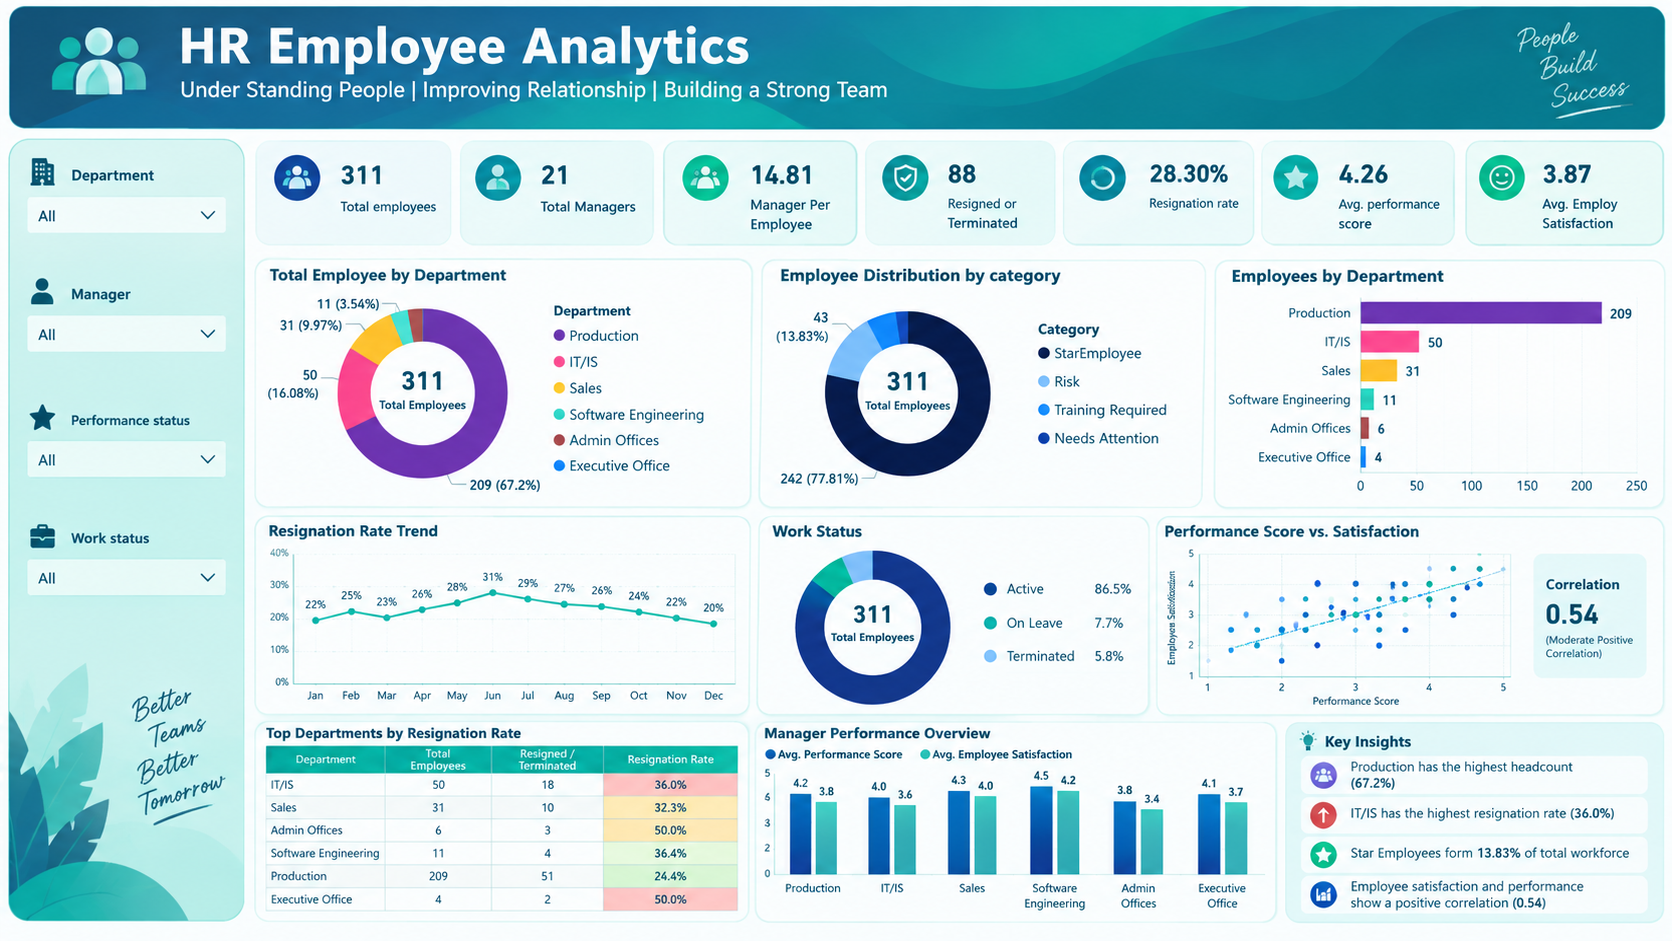

This screenshot's page, from the dashboard's own definition file:
{"tool":"powerbi","page":{"name":"  HR Employee Analytics ","canvas":[1280,720],"ordinal":0},"visuals":[{"type":"shape","box":[210,125,1058.3,90],"z":0},{"type":"shape","box":[0,0,1280,112],"z":1000},{"type":"textbox","box":[0,0,1280.3,78.3],"z":2000},{"type":"textbox","box":[0,67.3,1092,45.2],"z":3000},{"type":"shape","box":[0,123.8,200,583.8],"z":4000},{"type":"slicer","fields":{"Values":["hr_project departmentstatus.Department"]},"box":[13.8,138.8,172.5,93.8],"z":5000},{"type":"slicer","fields":{"Values":["hr_project category.Category"]},"box":[13.8,373.8,171.2,93.8],"z":6000},{"type":"slicer","fields":{"Values":["hr_project category.EmploymentStatus"]},"box":[15,493.8,172.5,93.8],"z":7000},{"type":"slicer","fields":{"Values":["hr_project mangerstatuswithoutdept.ManagerName"]},"box":[16.2,250,171.2,95],"z":8000},{"type":"clusteredBarChart","title":"Employ  Distribution  by category ","fields":{"Category":["hr_project category.Category","hr_project category.Department"],"Y":["CountNonNull(employedata.EmpID)"]},"box":[209.9,225.6,450,223.2],"z":9000},{"type":"barChart","title":"Total Employee by Department","fields":{"Category":["hr_project departmentstatus.Department"],"Y":["Sum(hr_project departmentstatus.Total_employee_under_manager)"]},"box":[674.4,225.6,593.6,223.2],"z":10000},{"type":"cardVisual","fields":{"Data":["CountNonNull(employedata.EmpID)"]},"box":[211.7,125.7,140,91.7],"z":11000},{"type":"cardVisual","fields":{"Data":["Sum(hr_project mangerstatuswithoutdept.Resigned_or_Terminated_Count)"]},"box":[651.7,125.7,175,91.7],"z":12000},{"type":"cardVisual","fields":{"Data":["hr_project mangerstatuswithoutdept.resignation_rate"]},"box":[826.7,124.9,161.7,93.3],"z":13000},{"type":"cardVisual","fields":{"Data":["Avg(hr_project mangerstatuswithoutdept.Avg_Category_score)"]},"box":[971.7,127.4,181.7,88.3],"z":14000},{"type":"cardVisual","fields":{"Data":["Avg(hr_project mangerstatuswithoutdept.Avg_EmpSatisfaction)"]},"box":[1108.3,138.3,171.7,93.3],"z":15000},{"type":"cardVisual","fields":{"Data":["CountNonNull(hr_project mangerstatuswithoutdept.ManagerID)"]},"box":[351.7,125.7,141.7,91.7],"z":16000},{"type":"cardVisual","fields":{"Data":["employedata.EmployOnManger"]},"box":[481.7,127.4,193.3,88.3],"z":17000},{"type":"clusteredColumnChart","title":"Employ  Distribution  by category ","fields":{"Y":["Avg(hr_project mangerstatuswithoutdept.Avg_EmpSatisfaction)","Avg(hr_project mangerstatuswithoutdept.Avg_Category_score)"],"Category":["employedata.Department"]},"box":[211.4,460,517.1,240],"z":18000},{"type":"shape","box":[738.6,458.6,530,241.4],"z":19000},{"type":"tableEx","title":"Employ  Distribution  by category ","fields":{"Values":["hr_project departmentstatus.Department","hr_project departmentstatus.Total_employee_under_manager","hr_project departmentstatus.Resigned_or_Terminated_Count","hr_project departmentstatus.Avg Resignation Rate"]},"box":[768.6,460,495.7,232.9],"z":20000}]}

Visuals, with their boxes in screenshot pixels (x1, y1, x2, y2), scaled from the page's 1280x720 canvas onto the 1672x941 screenshot:
shape: [x1=274, y1=163, x2=1657, y2=281]
shape: [x1=0, y1=0, x2=1671, y2=146]
textbox: [x1=0, y1=0, x2=1671, y2=102]
textbox: [x1=0, y1=88, x2=1426, y2=147]
shape: [x1=0, y1=162, x2=261, y2=925]
slicer - hr_project departmentstatus.Department: [x1=18, y1=181, x2=243, y2=304]
slicer - hr_project category.Category: [x1=18, y1=489, x2=242, y2=611]
slicer - hr_project category.EmploymentStatus: [x1=20, y1=645, x2=245, y2=768]
slicer - hr_project mangerstatuswithoutdept.ManagerName: [x1=21, y1=327, x2=245, y2=451]
"Employ  Distribution  by category " clusteredBarChart: [x1=274, y1=295, x2=862, y2=587]
"Total Employee by Department" barChart: [x1=881, y1=295, x2=1656, y2=587]
cardVisual - CountNonNull(employedata.EmpID): [x1=277, y1=164, x2=459, y2=284]
cardVisual - Sum(hr_project mangerstatuswithoutdept.Resigned_or_Terminated_Count): [x1=851, y1=164, x2=1080, y2=284]
cardVisual - hr_project mangerstatuswithoutdept.resignation_rate: [x1=1080, y1=163, x2=1291, y2=285]
cardVisual - Avg(hr_project mangerstatuswithoutdept.Avg_Category_score): [x1=1269, y1=167, x2=1507, y2=282]
cardVisual - Avg(hr_project mangerstatuswithoutdept.Avg_EmpSatisfaction): [x1=1448, y1=181, x2=1671, y2=303]
cardVisual - CountNonNull(hr_project mangerstatuswithoutdept.ManagerID): [x1=459, y1=164, x2=645, y2=284]
cardVisual - employedata.EmployOnManger: [x1=629, y1=167, x2=882, y2=282]
"Employ  Distribution  by category " clusteredColumnChart: [x1=276, y1=601, x2=952, y2=915]
shape: [x1=965, y1=599, x2=1657, y2=915]
"Employ  Distribution  by category " tableEx: [x1=1004, y1=601, x2=1651, y2=906]
